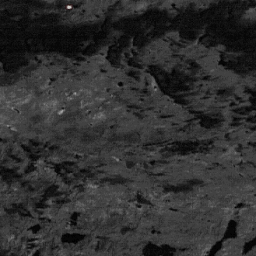Target: (65, 3, 72, 10)
